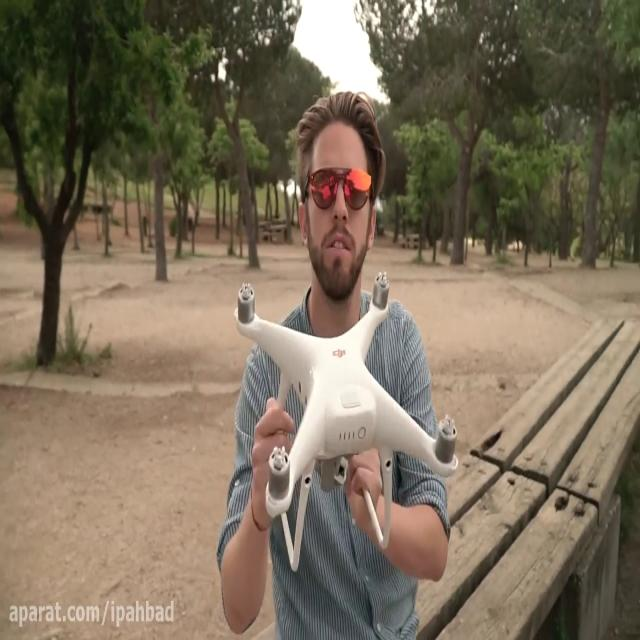drone: (234, 268, 458, 561)
